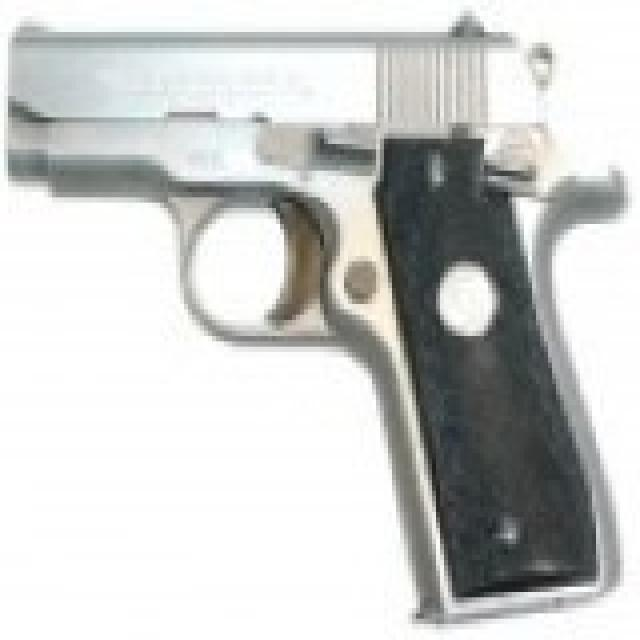Gun: (7, 8, 638, 603)
